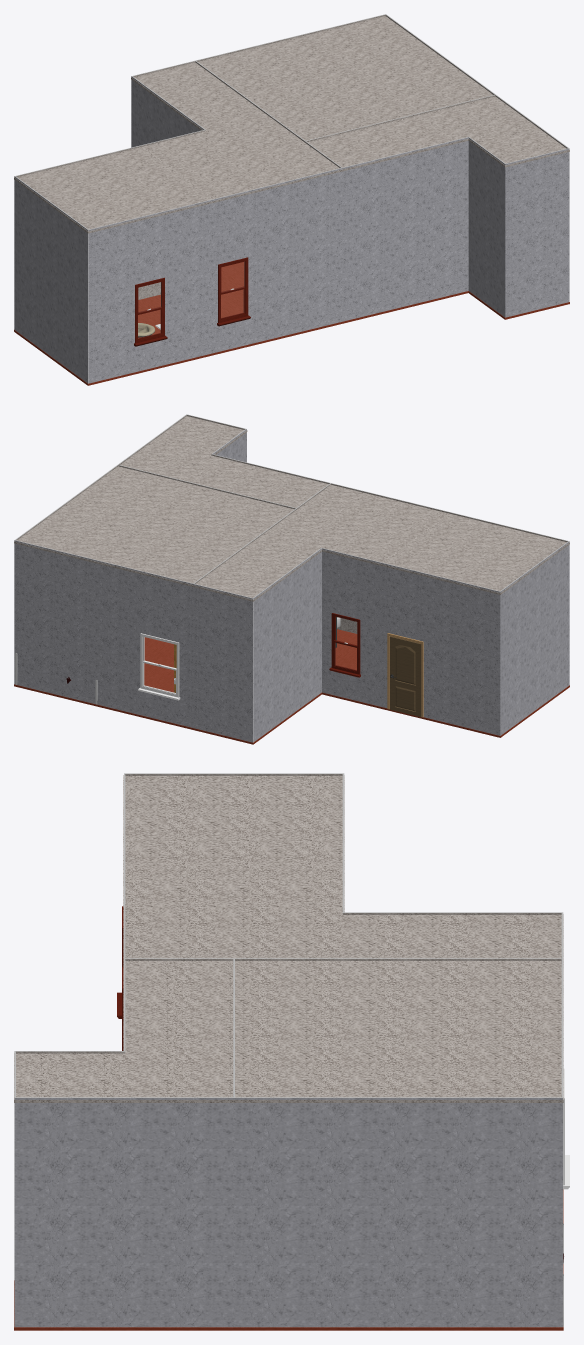
Rendered from ProcTHOR-Train-56.glb.
3 renders of one model, top to bottom at view 1: azimuth 30°, elevation 25°; view 2: azimuth 150°, elevation 25°; view 3: azimuth 270°, elevation 25°, orthographic. The views are drawn at different scales.
Visible parts, largest first — view 1: Ceiling#room|4|c, WallInside#wall|exterior|1.74|6.94|5.21|6.94, WallInside#wall|exterior|5.21|6.94|8.68|6.94, WallInside#wall|exterior|8.68|6.94|12.15|6.94, Ceiling#room|6|c, WallInside#wall|exterior|12.15|3.47|12.15|6.94, WallInside#wall|exterior|0.00|8.68|1.74|8.68, Ceiling#room|7|c, Ceiling#room|5|c, WallInside#wall|exterior|1.74|6.94|1.74|8.68, WallInside#wall|exterior|6.94|0.00|6.94|3.47, Window_Hung_32x60 (×2) (+3 smaller); view 2: WallInside#wall|exterior|0.00|0.00|5.21|0.00, Ceiling#room|4|c, WallInside#wall|exterior|8.68|3.47|12.15|3.47, Ceiling#room|6|c, WallInside#wall|exterior|12.15|3.47|12.15|6.94, WallInside#wall|exterior|6.94|0.00|6.94|3.47, WallInside#wall|exterior|5.21|0.00|6.94|0.00, Ceiling#room|7|c, Ceiling#room|5|c, WallInside#wall|exterior|6.94|3.47|8.68|3.47, Doorway_6, Floor#room|4|f (+6 smaller); view 3: WallInside#wall|exterior|0.00|0.00|0.00|5.21, WallInside#wall|exterior|0.00|5.21|0.00|8.68, Ceiling#room|4|c, Ceiling#room|6|c, Ceiling#room|5|c, Ceiling#room|7|c, Floor#room|4|f, WallInside#wall|4|5.21|0.00|5.21|5.21, Floor#room|5|f.
Part boxes in pixels (x1,y1,x2,y2): Ceiling#room|4|c: (198,16,495,142); WallInside#wall|exterior|1.74|6.94|5.21|6.94: (342,137,468,321); WallInside#wall|exterior|5.21|6.94|8.68|6.94: (215,168,342,352); WallInside#wall|exterior|8.68|6.94|12.15|6.94: (88,199,215,383); Ceiling#room|6|c: (131,62,342,202); WallInside#wall|exterior|12.15|3.47|12.15|6.94: (14,176,88,383); WallInside#wall|exterior|0.00|8.68|1.74|8.68: (505,148,569,317); Ceiling#room|7|c: (14,147,214,233); Ceiling#room|5|c: (308,96,569,171); WallInside#wall|exterior|1.74|6.94|1.74|8.68: (468,137,505,317); WallInside#wall|exterior|6.94|0.00|6.94|3.47: (131,76,204,147); Window_Hung_32x60 (×2): (134,257,250,346); WallInside#wall|exterior|0.00|0.00|5.21|0.00: (14,540,193,727); Ceiling#room|4|c: (14,466,293,587); WallInside#wall|exterior|8.68|3.47|12.15|3.47: (380,562,500,735); Ceiling#room|6|c: (192,485,448,601); WallInside#wall|exterior|12.15|3.47|12.15|6.94: (500,541,569,735); WallInside#wall|exterior|6.94|0.00|6.94|3.47: (253,548,321,742); WallInside#wall|exterior|5.21|0.00|6.94|0.00: (193,584,253,742); Ceiling#room|7|c: (380,513,569,594); Ceiling#room|5|c: (120,416,328,508); WallInside#wall|exterior|6.94|3.47|8.68|3.47: (322,548,381,706); Doorway_6: (387,633,423,717); Floor#room|4|f: (14,637,193,729); WallInside#wall|exterior|0.00|0.00|0.00|5.21: (233,1097,562,1327); WallInside#wall|exterior|0.00|5.21|0.00|8.68: (14,1097,234,1327); Ceiling#room|4|c: (233,960,563,1102); Ceiling#room|6|c: (123,868,563,961); Ceiling#room|5|c: (14,960,235,1102); Ceiling#room|7|c: (123,775,344,868); Floor#room|4|f: (233,1189,563,1330); WallInside#wall|4|5.21|0.00|5.21|5.21: (233,958,561,960); Floor#room|5|f: (14,1280,234,1330).
Size of what is drawn, in the model's own units: 12.19 by 4.07 by 8.82.
274 materials, 144 textured.
